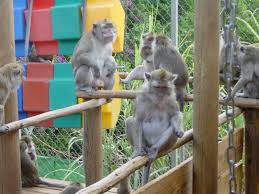monkey: (137, 28, 209, 163), (62, 9, 129, 129), (0, 36, 24, 133)
